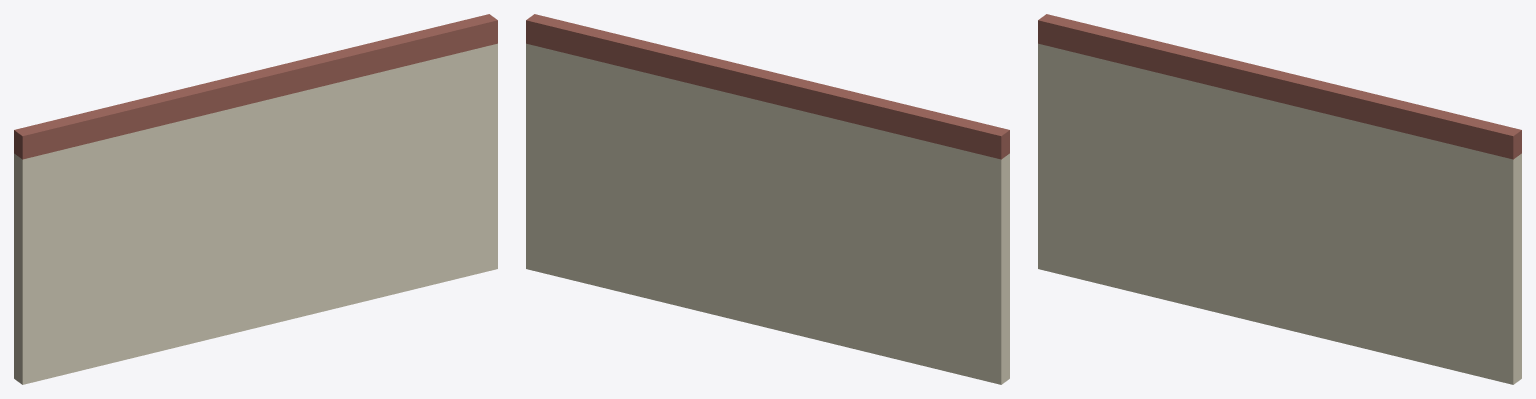
The model's file is Shops-0.obj.
3 renders of one model, left to right at view 1: azimuth 30°, elevation 25°; view 2: azimuth 150°, elevation 25°; view 3: azimuth 330°, elevation 25°, orthographic.
Bounding box in the file's own units: 6.4 × 3.2 × 0.2.
Materials: 1 (1 with a texture image).
